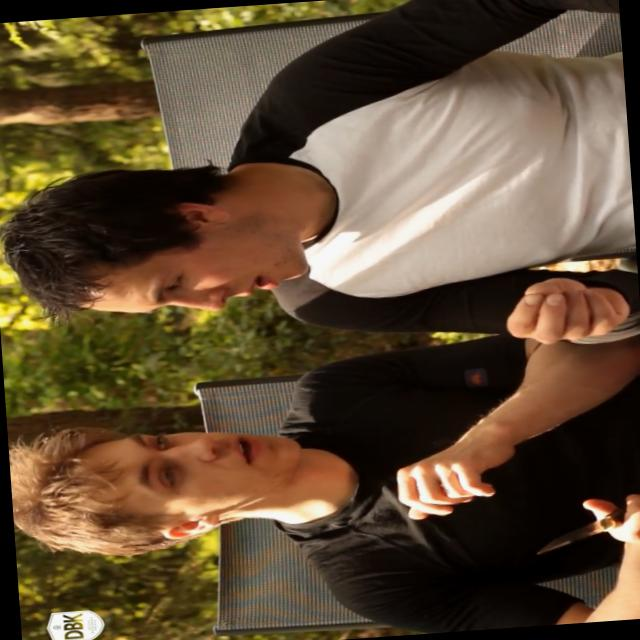knife: (514, 483, 639, 563)
